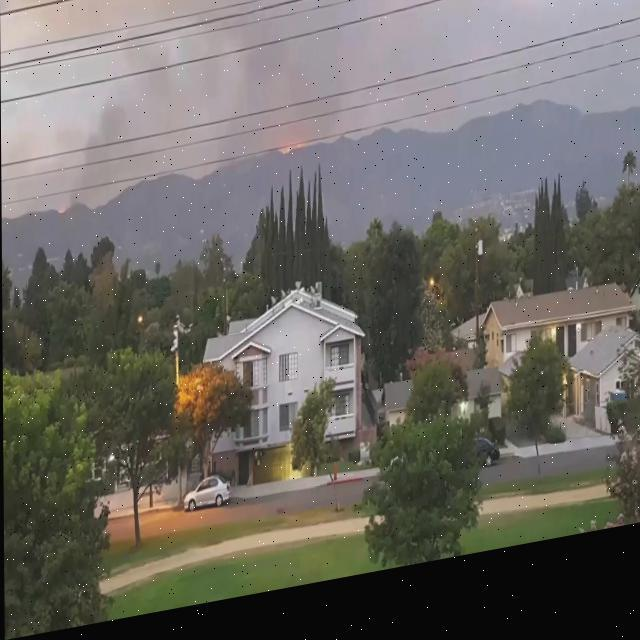Fire: (278, 156, 290, 168)
